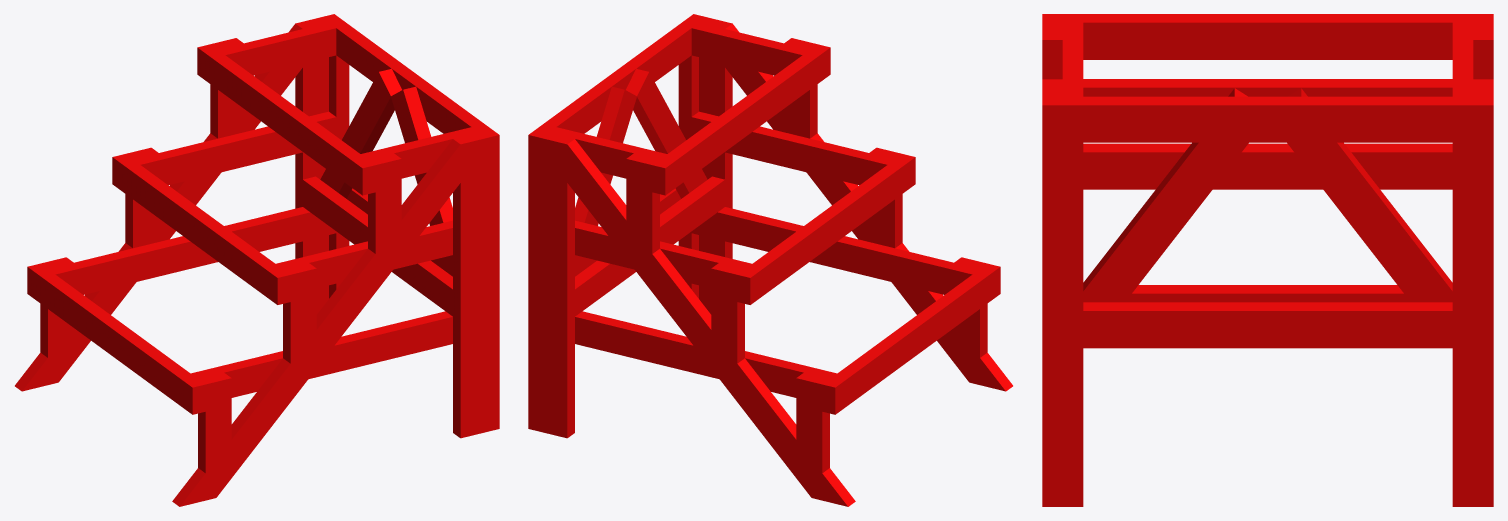
Rendered from result.glb.
3 renders of one model, left to right at view 1: azimuth 30°, elevation 25°; view 2: azimuth 150°, elevation 25°; view 3: azimuth 270°, elevation 25°, orthographic. The views are drawn at different scales.
Visible parts, largest first — view 1: 8ac11443-3f14-473f-a013-e4dcb4552fef__undefined, 25085293-8377-4097-b854-e9078155e299__undefined, e32b2ef7-bc3d-4911-8a28-bcd00bd47602__Line_6 (×2), 987383e9-5d86-4995-9a10-daad466f8633__Line_2 (×2), 064ed068-0a12-4f91-a79d-10007da15037__Line_4 (×2), 60a072c5-bb45-450e-8df2-ded01998c8da__undefined, dfc3bf22-7660-4e8d-9a76-e3c73d857cf0__undefined, 3a197fc2-d7fe-4686-99ac-88bfaea974a8__undefined, 4a0bfeda-4b6b-4b5b-a725-cc18932ac337__undefined, 53b78dc9-b0e5-4a7b-97fc-9f1580160d84__undefined, 7742c845-5a75-4721-97af-4e55f51836de__undefined, 34f09e2e-d5a6-4de8-8194-e6e4ec471d20__undefined (+13 smaller); view 2: 3a197fc2-d7fe-4686-99ac-88bfaea974a8__undefined, 26343319-747e-48ff-a9e3-94aefa7db88a__undefined, e32b2ef7-bc3d-4911-8a28-bcd00bd47602__Line_6 (×2), 064ed068-0a12-4f91-a79d-10007da15037__Line_4 (×2), 987383e9-5d86-4995-9a10-daad466f8633__Line_2 (×2), dfc3bf22-7660-4e8d-9a76-e3c73d857cf0__undefined, 60a072c5-bb45-450e-8df2-ded01998c8da__undefined, 8ac11443-3f14-473f-a013-e4dcb4552fef__undefined, edeb7907-9222-417e-80d9-c61bc6dc5696__undefined, 53b78dc9-b0e5-4a7b-97fc-9f1580160d84__undefined, 7742c845-5a75-4721-97af-4e55f51836de__undefined, 8cb09fbd-f351-4638-b045-690afa7511cc__undefined (+14 smaller); view 3: 53b78dc9-b0e5-4a7b-97fc-9f1580160d84__undefined, e32b2ef7-bc3d-4911-8a28-bcd00bd47602__Line_6 (×2), 1d7522a1-adab-4057-a34c-50b4a72d13e8__undefined, 34f09e2e-d5a6-4de8-8194-e6e4ec471d20__undefined, 8cb09fbd-f351-4638-b045-690afa7511cc__undefined, 51dbc2e1-8c70-4d8d-930e-1d6db7bd282b__undefined (×2), 987383e9-5d86-4995-9a10-daad466f8633__Line_2 (×2), ad589d6d-e876-490e-9b2a-91f5e5e1dc51__undefined, 064ed068-0a12-4f91-a79d-10007da15037__Line_4 (×2), 7742c845-5a75-4721-97af-4e55f51836de__undefined, 2d3d1a1e-a00b-4756-ac29-08b89ca79220__undefined, dcb379c8-bee3-4a3e-8466-00e8261e7d3d__undefined (+2 smaller).
Boxes of the visible parts, x1=… form: 8ac11443-3f14-473f-a013-e4dcb4552fef__undefined: x1=172, y1=139, x2=460, y2=506; 25085293-8377-4097-b854-e9078155e299__undefined: x1=453, y1=132, x2=486, y2=438; e32b2ef7-bc3d-4911-8a28-bcd00bd47602__Line_6 (×2): x1=197, y1=44, x2=375, y2=195; 987383e9-5d86-4995-9a10-daad466f8633__Line_2 (×2): x1=27, y1=263, x2=205, y2=414; 064ed068-0a12-4f91-a79d-10007da15037__Line_4 (×2): x1=112, y1=154, x2=290, y2=304; 60a072c5-bb45-450e-8df2-ded01998c8da__undefined: x1=48, y1=207, x2=336, y2=294; dfc3bf22-7660-4e8d-9a76-e3c73d857cf0__undefined: x1=191, y1=311, x2=452, y2=397; 3a197fc2-d7fe-4686-99ac-88bfaea974a8__undefined: x1=15, y1=23, x2=302, y2=391; 4a0bfeda-4b6b-4b5b-a725-cc18932ac337__undefined: x1=133, y1=111, x2=336, y2=185; 53b78dc9-b0e5-4a7b-97fc-9f1580160d84__undefined: x1=321, y1=14, x2=499, y2=164; 7742c845-5a75-4721-97af-4e55f51836de__undefined: x1=303, y1=176, x2=452, y2=316; 34f09e2e-d5a6-4de8-8194-e6e4ec471d20__undefined: x1=486, y1=162, x2=499, y2=431; 3a197fc2-d7fe-4686-99ac-88bfaea974a8__undefined: x1=567, y1=139, x2=855, y2=506; 26343319-747e-48ff-a9e3-94aefa7db88a__undefined: x1=541, y1=132, x2=574, y2=438; e32b2ef7-bc3d-4911-8a28-bcd00bd47602__Line_6 (×2): x1=652, y1=44, x2=830, y2=195; 064ed068-0a12-4f91-a79d-10007da15037__Line_4 (×2): x1=737, y1=154, x2=915, y2=304; 987383e9-5d86-4995-9a10-daad466f8633__Line_2 (×2): x1=822, y1=263, x2=1000, y2=414; dfc3bf22-7660-4e8d-9a76-e3c73d857cf0__undefined: x1=691, y1=207, x2=979, y2=294; 60a072c5-bb45-450e-8df2-ded01998c8da__undefined: x1=575, y1=311, x2=836, y2=397; 8ac11443-3f14-473f-a013-e4dcb4552fef__undefined: x1=725, y1=23, x2=1012, y2=391; edeb7907-9222-417e-80d9-c61bc6dc5696__undefined: x1=691, y1=111, x2=894, y2=185; 53b78dc9-b0e5-4a7b-97fc-9f1580160d84__undefined: x1=528, y1=14, x2=706, y2=164; 7742c845-5a75-4721-97af-4e55f51836de__undefined: x1=575, y1=176, x2=724, y2=316; 8cb09fbd-f351-4638-b045-690afa7511cc__undefined: x1=528, y1=162, x2=541, y2=431; 53b78dc9-b0e5-4a7b-97fc-9f1580160d84__undefined: x1=1042, y1=96, x2=1493, y2=142; e32b2ef7-bc3d-4911-8a28-bcd00bd47602__Line_6 (×2): x1=1042, y1=14, x2=1493, y2=59; 1d7522a1-adab-4057-a34c-50b4a72d13e8__undefined: x1=1083, y1=302, x2=1452, y2=348; 34f09e2e-d5a6-4de8-8194-e6e4ec471d20__undefined: x1=1042, y1=142, x2=1083, y2=506; 8cb09fbd-f351-4638-b045-690afa7511cc__undefined: x1=1452, y1=142, x2=1493, y2=506; 51dbc2e1-8c70-4d8d-930e-1d6db7bd282b__undefined (×2): x1=1083, y1=88, x2=1248, y2=302; 987383e9-5d86-4995-9a10-daad466f8633__Line_2 (×2): x1=1083, y1=143, x2=1452, y2=189; ad589d6d-e876-490e-9b2a-91f5e5e1dc51__undefined: x1=1287, y1=88, x2=1452, y2=302; 064ed068-0a12-4f91-a79d-10007da15037__Line_4 (×2): x1=1083, y1=79, x2=1452, y2=96; 7742c845-5a75-4721-97af-4e55f51836de__undefined: x1=1125, y1=285, x2=1410, y2=302; 2d3d1a1e-a00b-4756-ac29-08b89ca79220__undefined: x1=1062, y1=22, x2=1083, y2=96; dcb379c8-bee3-4a3e-8466-00e8261e7d3d__undefined: x1=1452, y1=22, x2=1473, y2=96.
Bounding box in the file's own units: 615 × 540 × 550.
